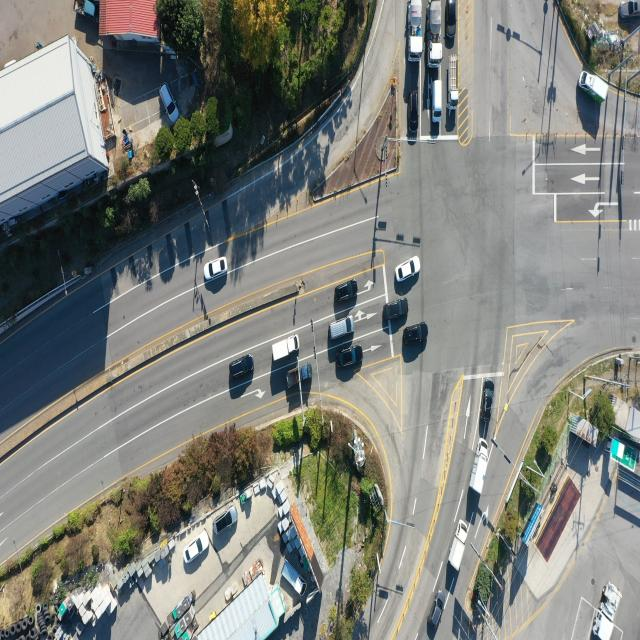car: (184, 530, 209, 564), (158, 81, 176, 122), (213, 505, 237, 534), (336, 345, 364, 369), (382, 298, 409, 322), (325, 314, 352, 338), (429, 589, 445, 629), (398, 259, 422, 285), (334, 280, 360, 303), (228, 356, 252, 380), (404, 324, 430, 346), (205, 259, 229, 282), (482, 377, 493, 422), (432, 80, 443, 124), (408, 89, 419, 133), (447, 3, 457, 48), (619, 0, 640, 19)
medium_truck: (594, 583, 624, 640), (409, 0, 426, 60), (428, 0, 443, 64)
small_truck: (471, 439, 492, 498), (576, 68, 607, 104), (448, 520, 468, 573), (280, 561, 306, 595), (271, 336, 299, 364), (286, 364, 312, 389), (448, 54, 458, 105), (73, 0, 97, 21)
